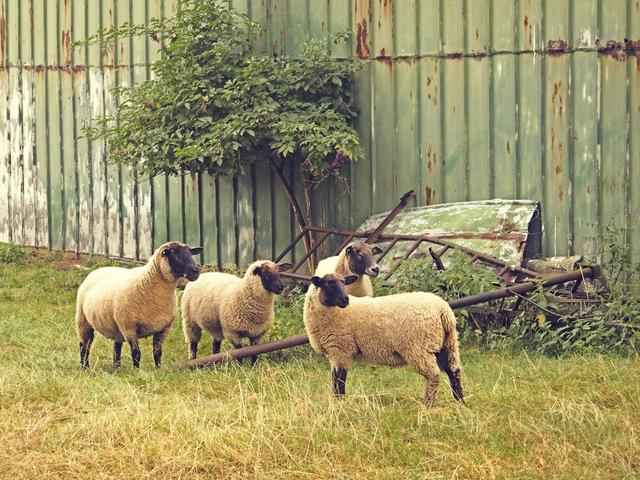sheep: (65, 201, 235, 364)
